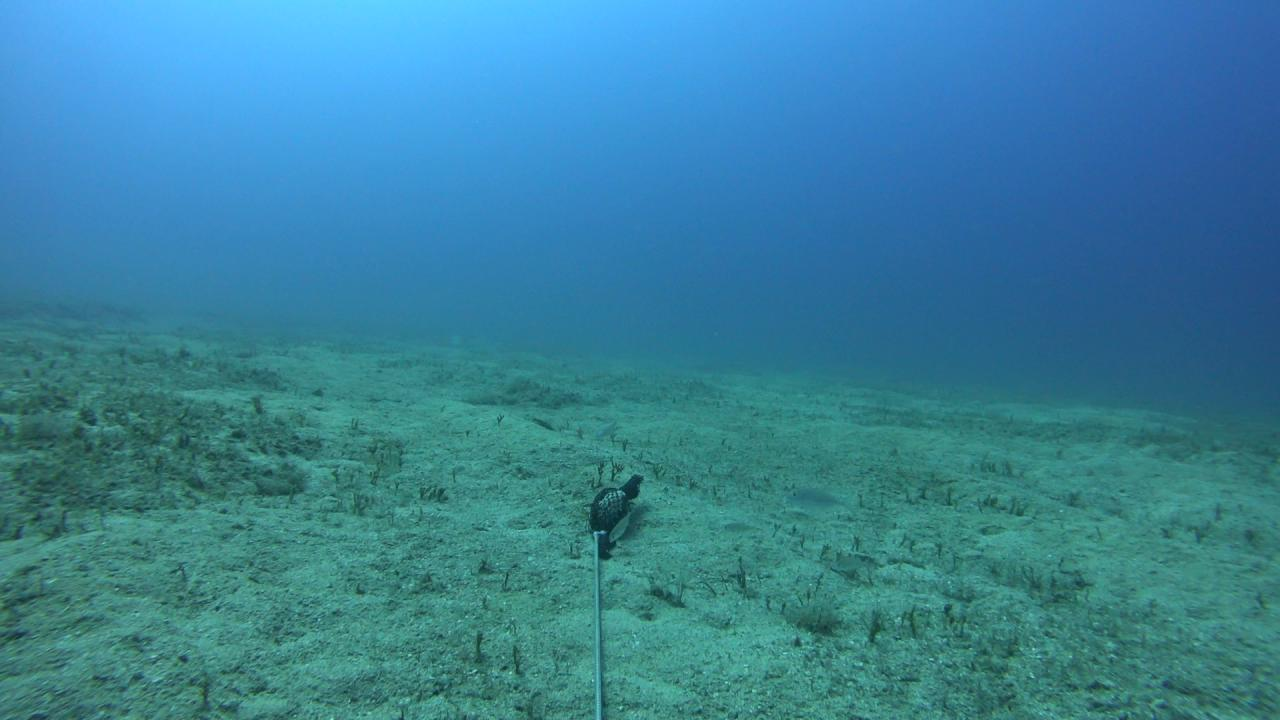pagellus: (782, 483, 857, 517), (720, 519, 765, 536), (609, 513, 633, 544), (830, 554, 867, 572)
